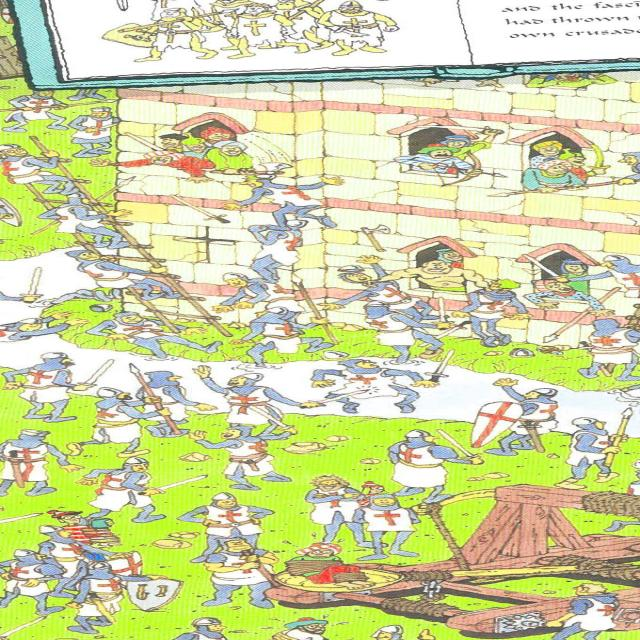waldo: (46, 510, 84, 524)
